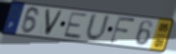6: (20, 6, 42, 35), (134, 20, 154, 47)
E: (61, 11, 88, 41)
F: (108, 15, 136, 45)
U: (84, 12, 112, 43)
V: (43, 7, 65, 37)
